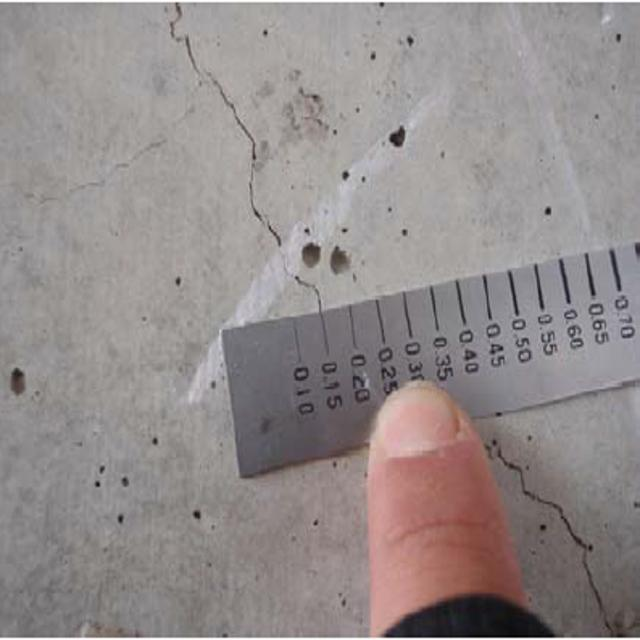crack: (160, 6, 327, 317), (499, 436, 637, 638)
